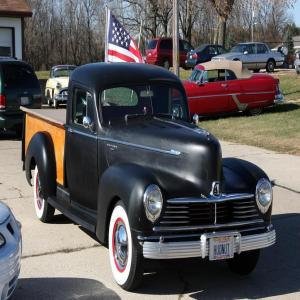Vehicle-registration-plate: (210, 238, 235, 261)
